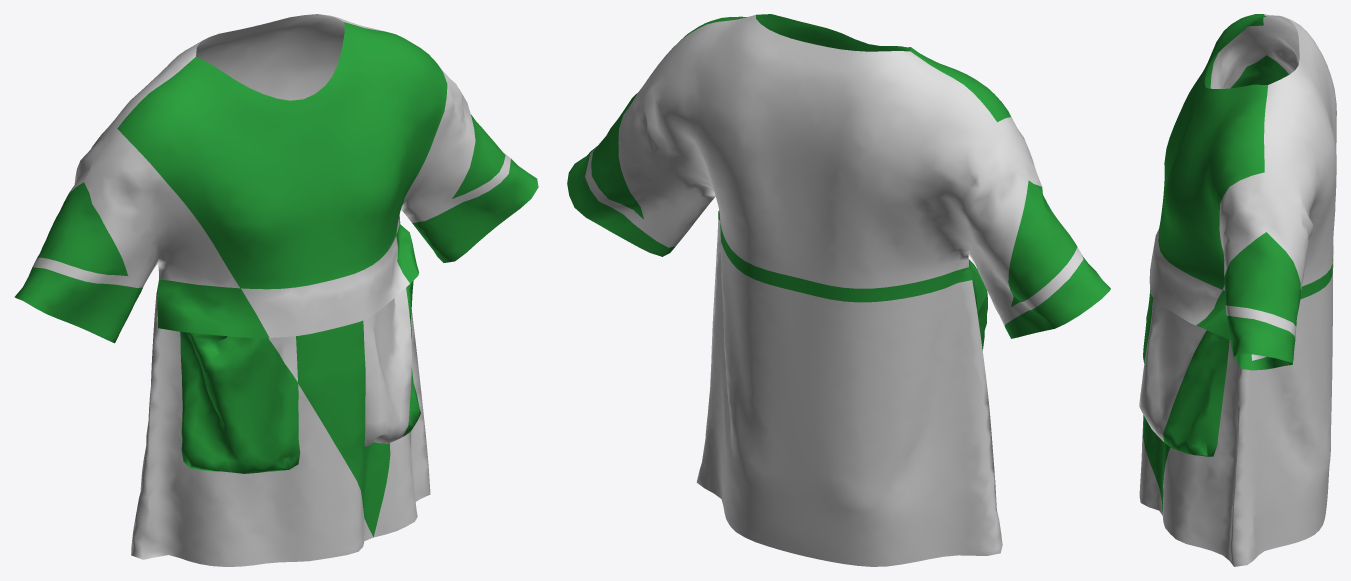
The model's file is T-shirt green.glb.
3 views of the same model, side by side, from view 1: azimuth 30°, elevation 25°; view 2: azimuth 150°, elevation 25°; view 3: azimuth 270°, elevation 25° (orthographic). The views are drawn at different scales.
Visible parts, largest first — view 1: Cloth; view 2: Cloth; view 3: Cloth.
Part boxes in pixels (x1,y1,x2,y2): Cloth: [14, 14, 538, 566]; Cloth: [567, 14, 1110, 566]; Cloth: [1139, 14, 1336, 566].
Bounding box in the file's own units: 81.16 × 72.99 × 28.58.
